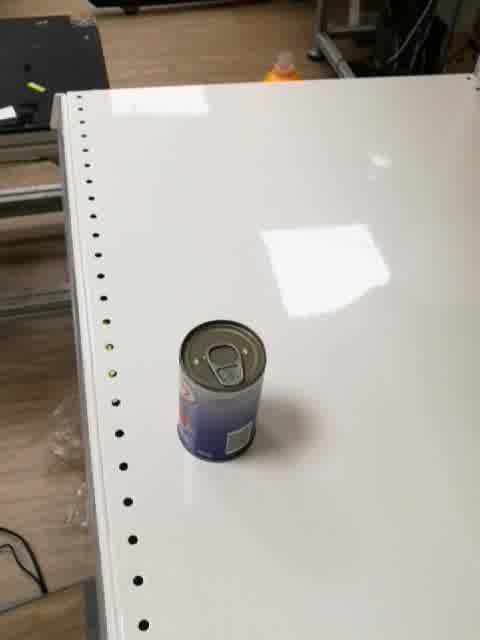sardine: (177, 319, 266, 464)
